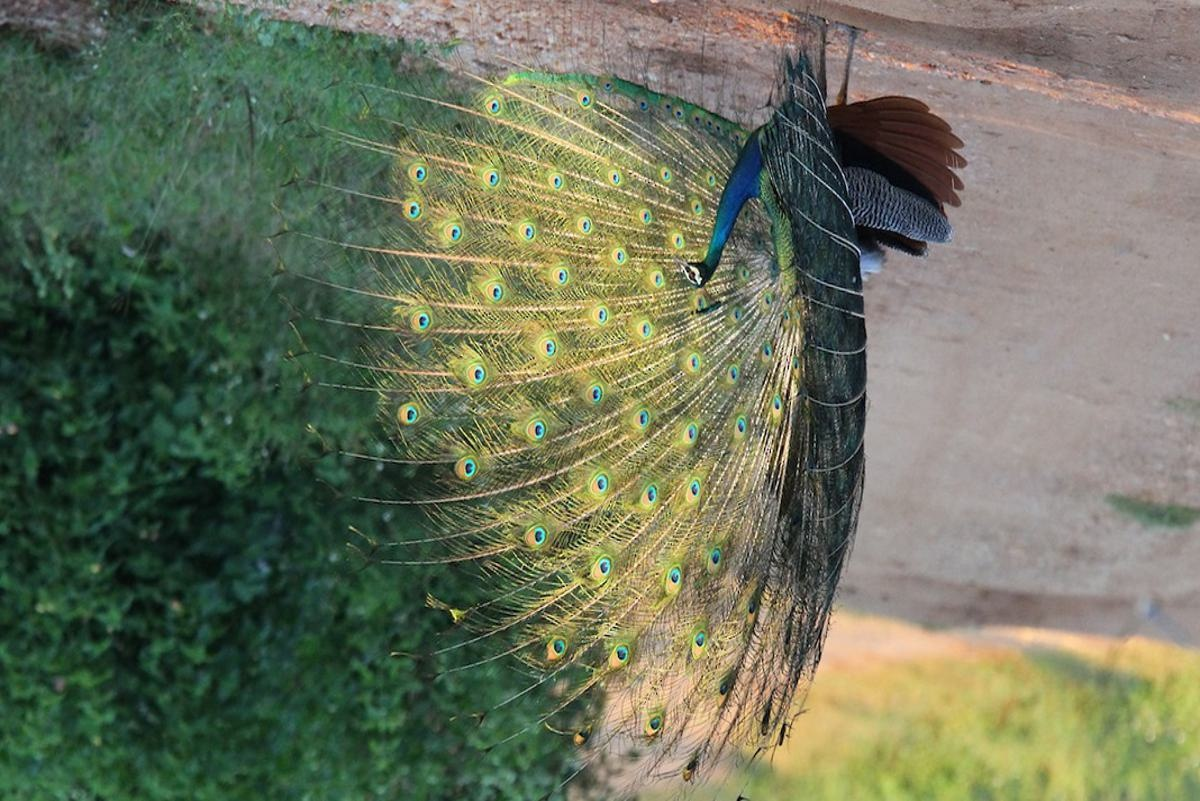peacock: (437, 70, 938, 688)
